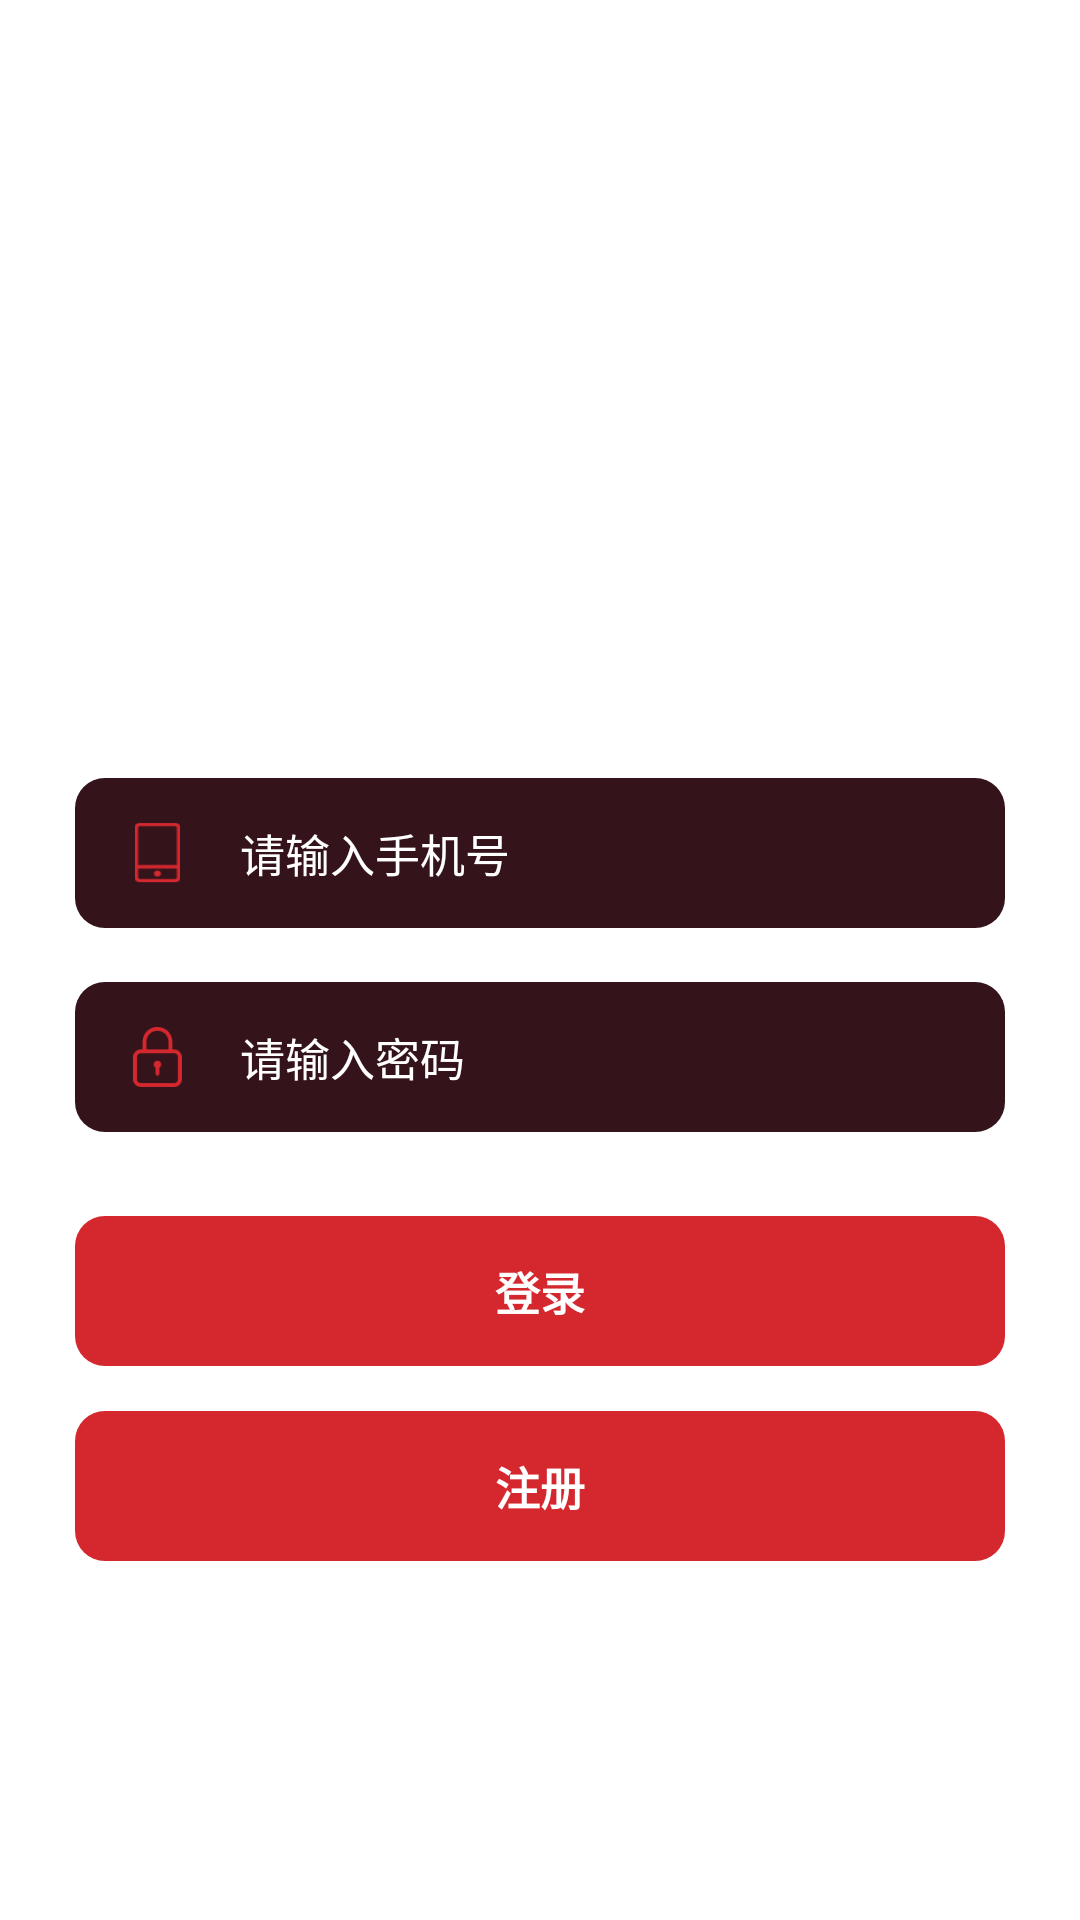

Icons on this 1080px x 1920px Android screen, each with the point to tap as (x=x, y=y):
login phone: (x=157, y=853)
login pwd: (x=157, y=1057)
